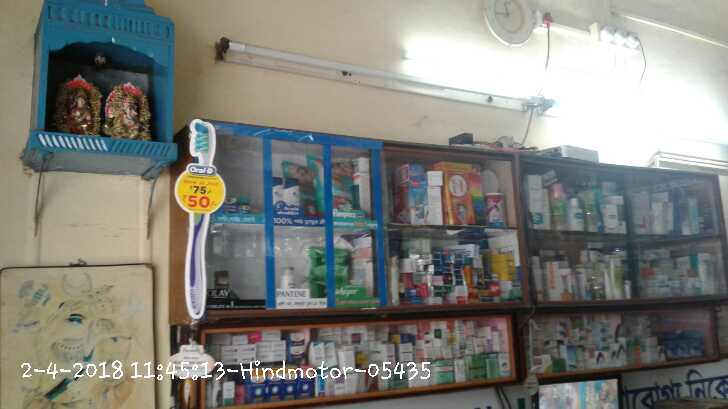vicks: (221, 193, 252, 213)
